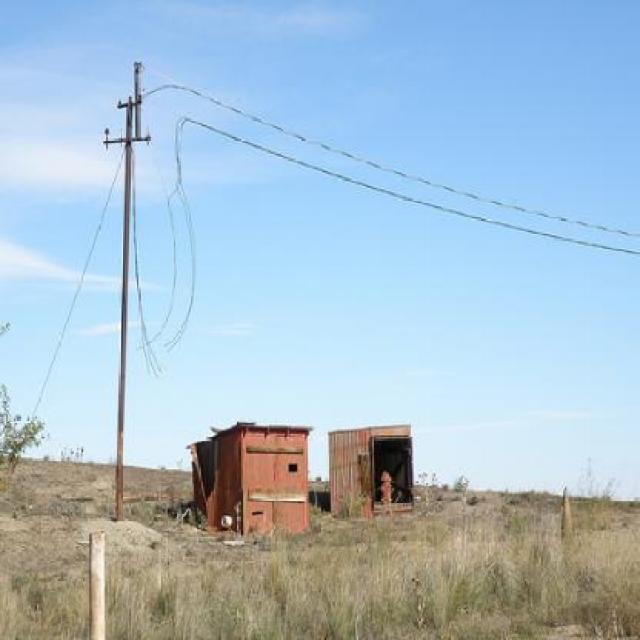pole: (101, 72, 152, 513)
